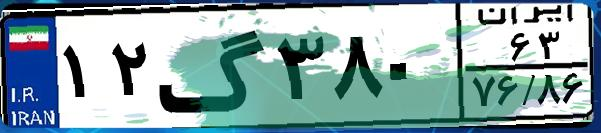0: (385, 28, 445, 110)
1: (57, 26, 110, 100)
2: (110, 28, 156, 98)
3: (270, 28, 330, 110), (537, 27, 568, 80)
6: (560, 70, 590, 125), (508, 27, 537, 80), (495, 70, 520, 125)
7: (470, 70, 495, 125)
8: (330, 28, 385, 110), (535, 70, 560, 125)
گ: (156, 12, 270, 120)
